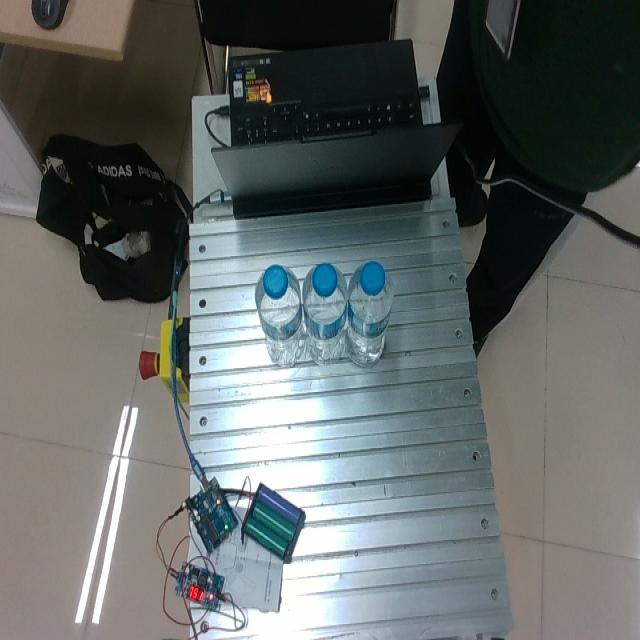lavie: (347, 260, 394, 367), (302, 263, 350, 365), (256, 264, 304, 365)
